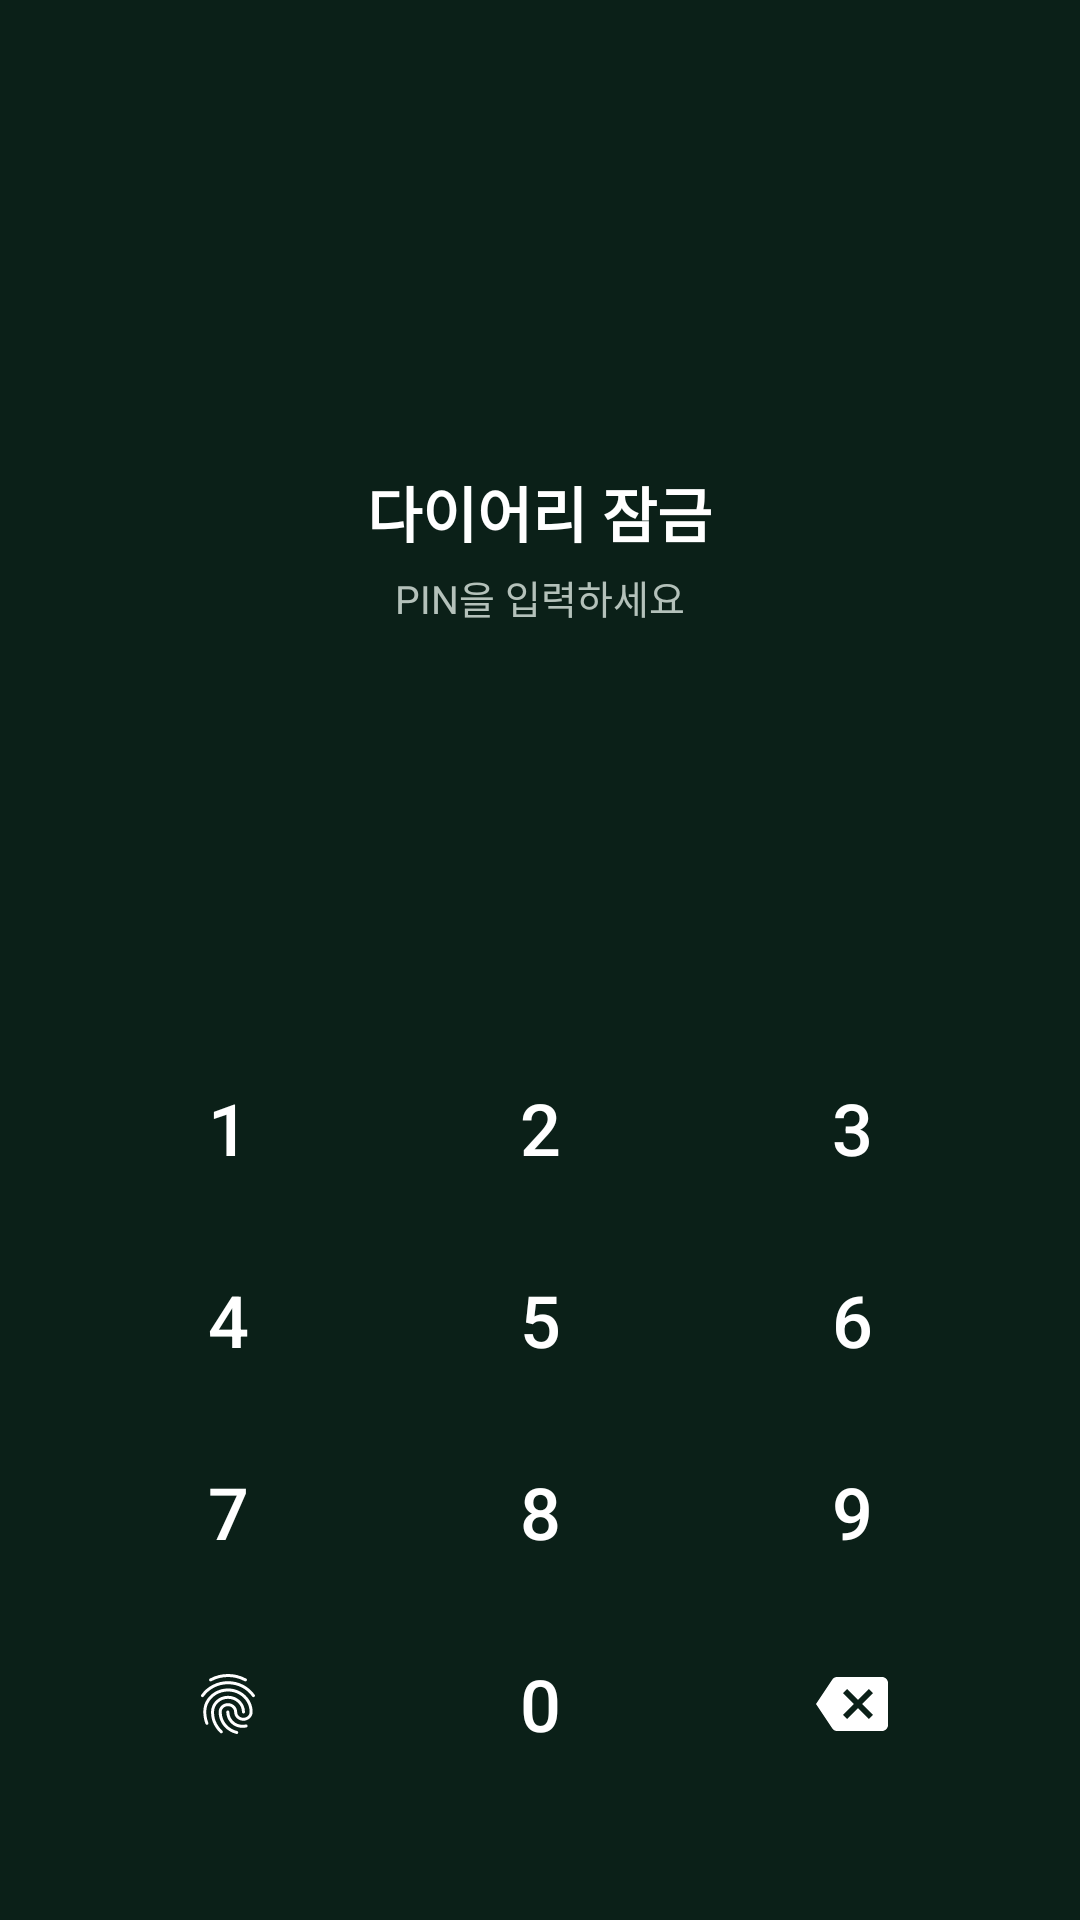

Locate icon controls on the screen. Image size 1080px×1920px, boxes as [x1,y1,x2,y2].
생체인식: [201,1674,255,1734]
지우기: [816,1677,888,1731]
